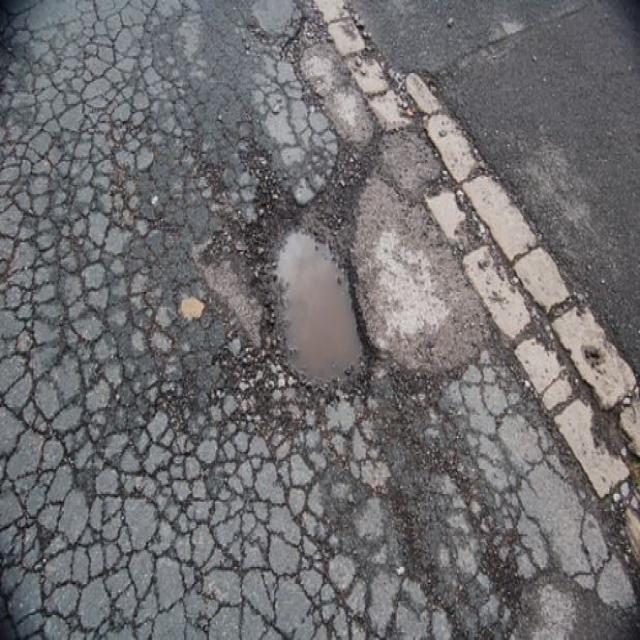pothole: (245, 199, 385, 393)
